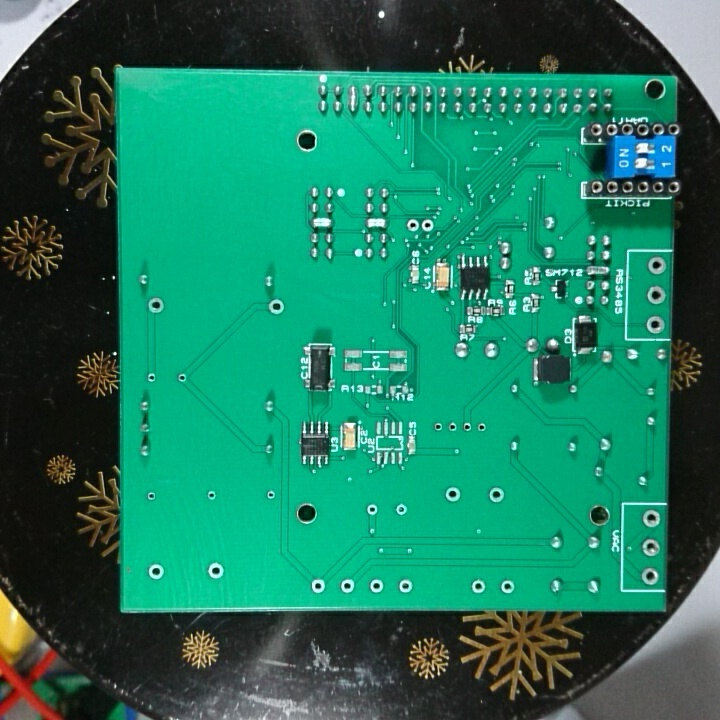F: (144, 295, 169, 318), (639, 507, 664, 530), (640, 535, 662, 560), (204, 560, 227, 583), (639, 564, 662, 587), (644, 282, 665, 307), (484, 486, 506, 509), (441, 484, 464, 506), (647, 253, 667, 278), (646, 312, 667, 335), (335, 576, 359, 596), (145, 561, 167, 582), (396, 575, 416, 597), (307, 577, 330, 596), (265, 298, 287, 317), (469, 576, 487, 597), (498, 577, 516, 597), (364, 499, 381, 520), (405, 215, 421, 236), (391, 499, 408, 518), (421, 214, 436, 235), (474, 418, 488, 440), (261, 486, 279, 503), (366, 577, 384, 593), (445, 418, 460, 437), (430, 419, 445, 437), (461, 418, 475, 437), (176, 369, 190, 388), (143, 369, 162, 383), (145, 489, 161, 504), (204, 488, 219, 504)
P: (308, 215, 339, 232), (584, 262, 613, 279), (347, 82, 360, 116), (365, 216, 391, 229)
